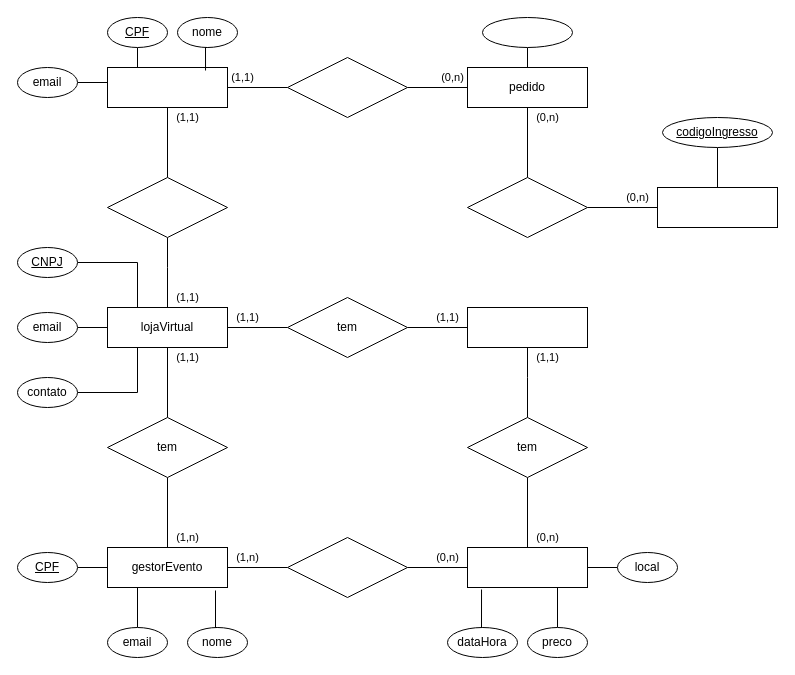
The diagram is 795 pixels wide and 675 high, and some of its shapes have lost their labels. The shapes that lost their labels are listed below. From the top down, each one's box as (x1, y1, x2, y2) in pixels, then its label:
(482, 16, 572, 48): numeroVenda
(106, 66, 228, 108): cliente
(286, 56, 408, 118): faz
(106, 176, 228, 238): acessa
(466, 176, 588, 238): gera
(656, 186, 778, 228): ingresso
(466, 306, 588, 348): catálogoEvento
(286, 536, 408, 598): gerencia
(466, 546, 588, 588): Evento
